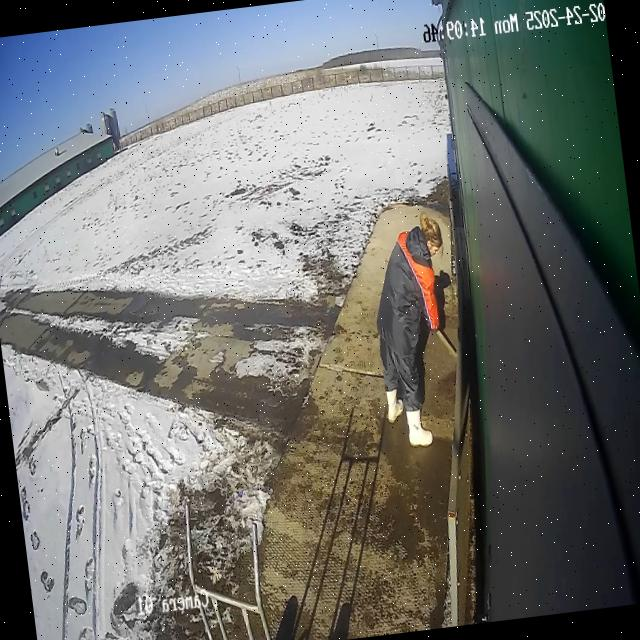Red uniform: (360, 209, 470, 454)
